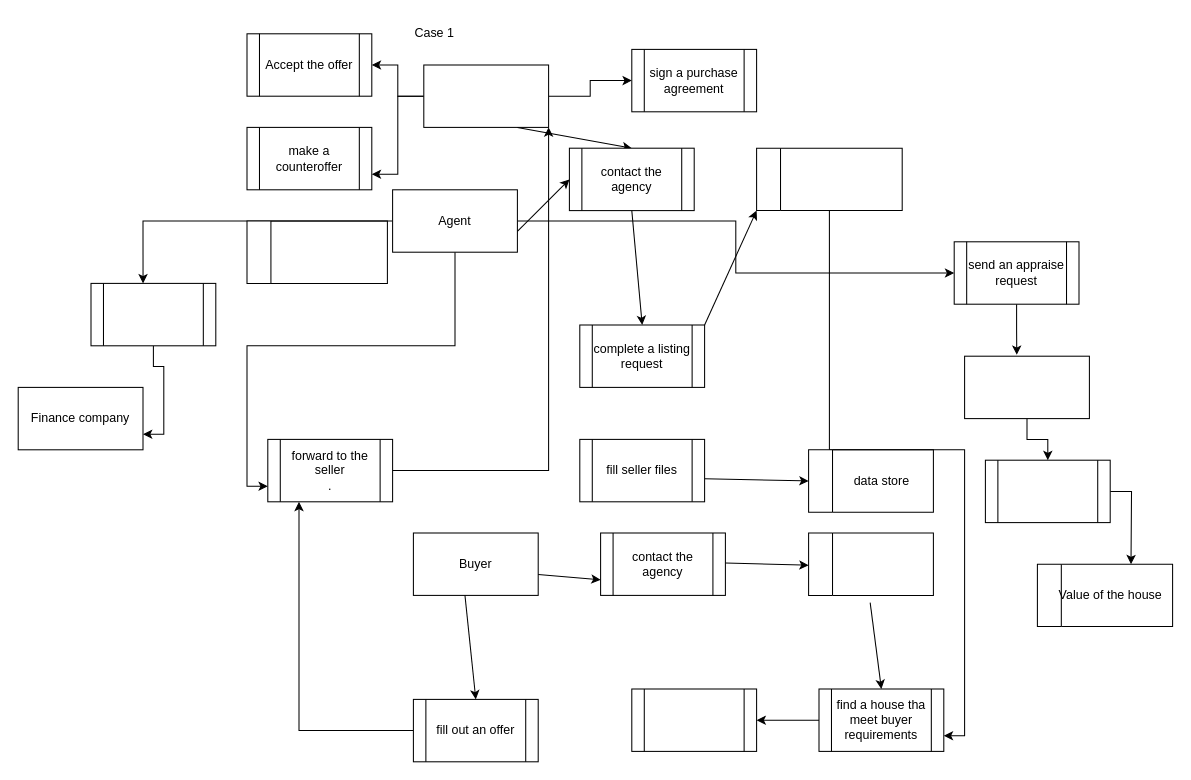
Some shapes in this 1191 by 780 pixel diagram are drawn without their labels. The centre of each missing label's shape, as x and y in pixels:
"Appraiser" goes at pixel 1026 387.
"appraises the house value" goes at pixel 1047 491.
"buyer request" goes at pixel 870 563.
"make a financing application" goes at pixel 153 314.
"purchase agreement" goes at pixel 316 251.
"Seller" goes at pixel 486 95.
"seller Listing request" goes at pixel 829 179.
"send a multiple listing statement" goes at pixel 694 719.
